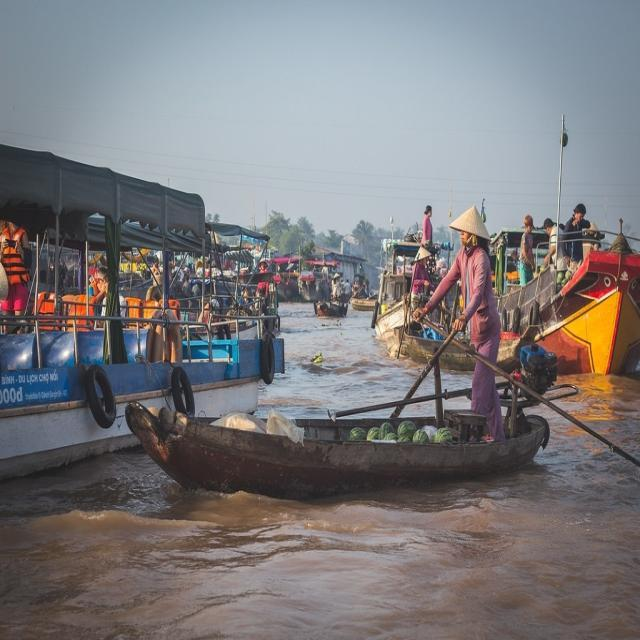Hyacinth: (305, 353, 329, 368)
boat: (2, 148, 286, 477), (124, 403, 550, 494), (489, 226, 638, 385), (372, 231, 459, 337), (298, 264, 333, 301), (314, 297, 351, 322), (272, 272, 298, 304)
